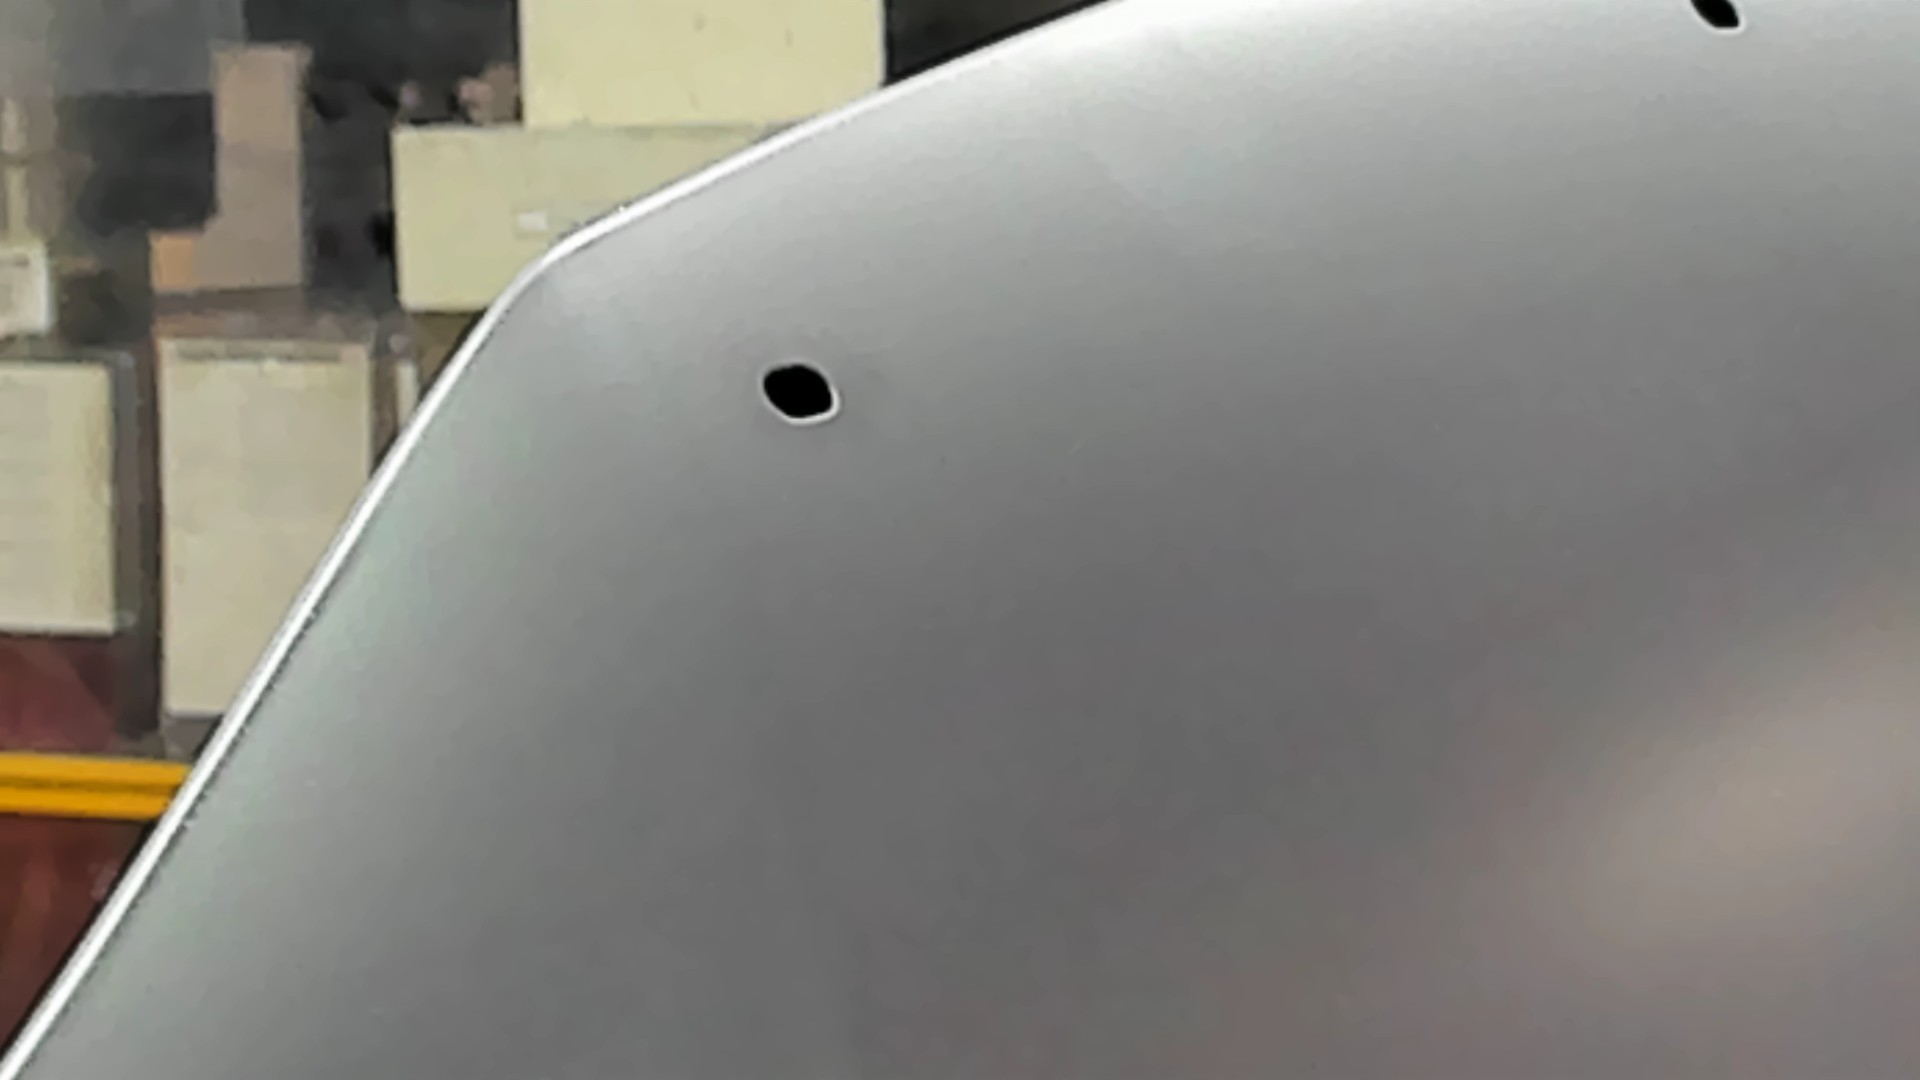amorfo: (756, 355, 855, 429), (1677, 1, 1755, 44)
capo: (947, 105, 1920, 1080)
